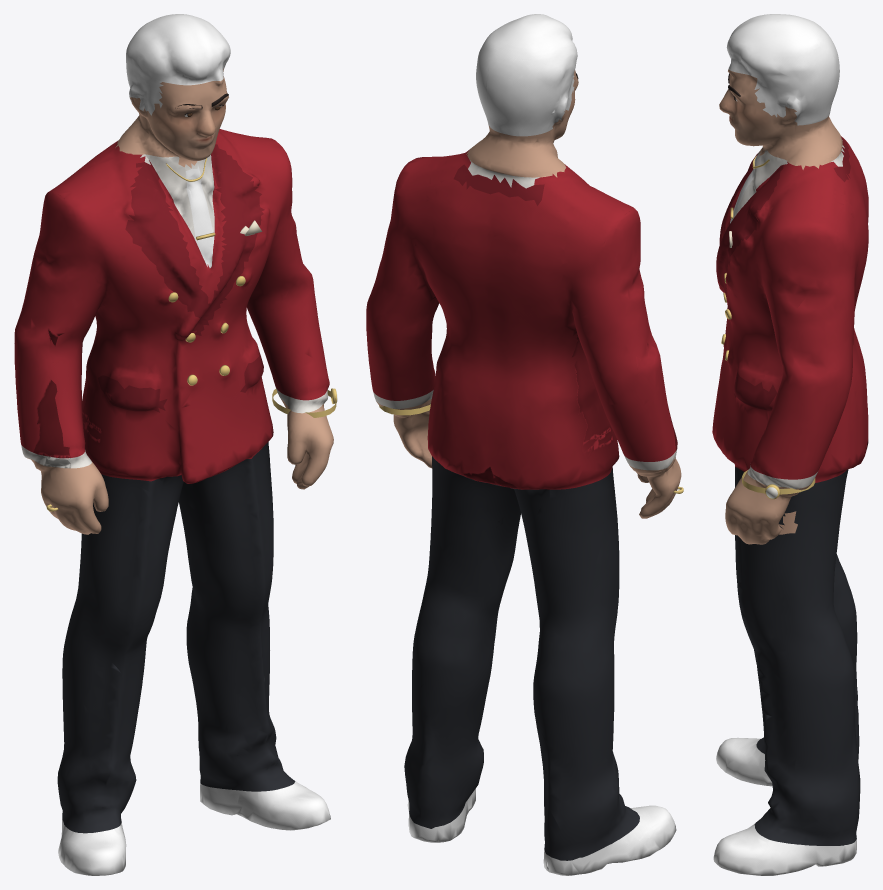
Rendered from char_partner_90s.glb.
The picture shows the model from 3 angles, left to right: view 1: azimuth 30°, elevation 25°; view 2: azimuth 150°, elevation 25°; view 3: azimuth 270°, elevation 25°; orthographic projection.
Parts seen in each view (by area): view 1: HeroFull; view 2: HeroFull; view 3: HeroFull.
Part boxes in pixels (x1=…): HeroFull: x1=14, y1=14, x2=337, y2=875; HeroFull: x1=366, y1=14, x2=683, y2=875; HeroFull: x1=712, y1=14, x2=868, y2=875.
Bounding box in the file's own units: 0.674 × 1.75 × 0.3077.
19 materials, 9 textured.
